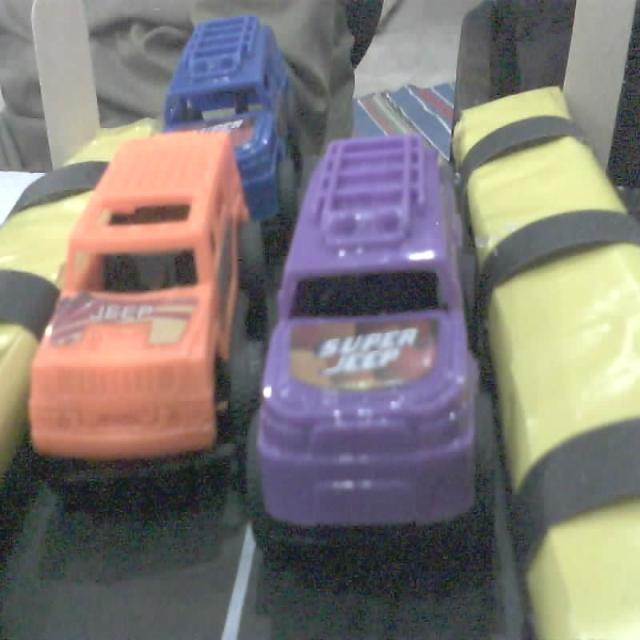ThreeCar: (238, 123, 505, 575), (23, 130, 272, 477), (159, 6, 308, 244)
